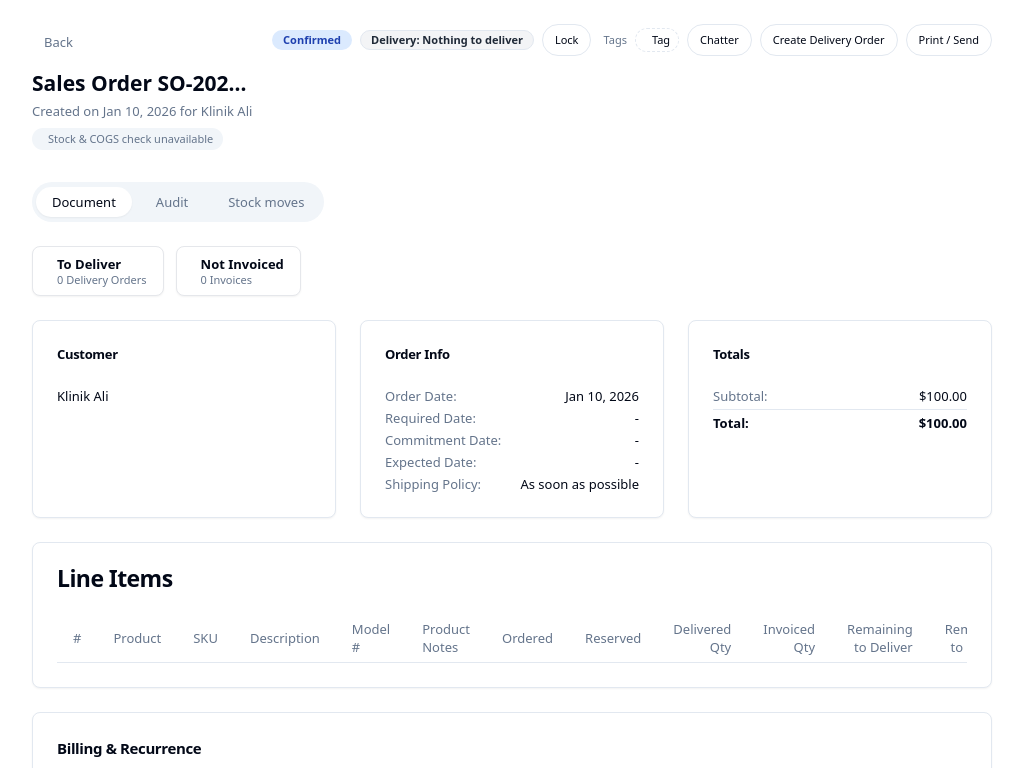
it: SalesOrderDetailPage — Audit tab (#905 / PCU1) › renders the Audit tab and loads the read-only audit feed for the order
This screenshot has width=1024, height=768.
expect the heading "Sales Order SO-2026-0005" is shown: met, box top-left (32, 68), bottom-right (256, 98)
Press the mouse on the tab "Audit": {"x": 168, "y": 202} top-left (132, 187), bottom-right (204, 217)
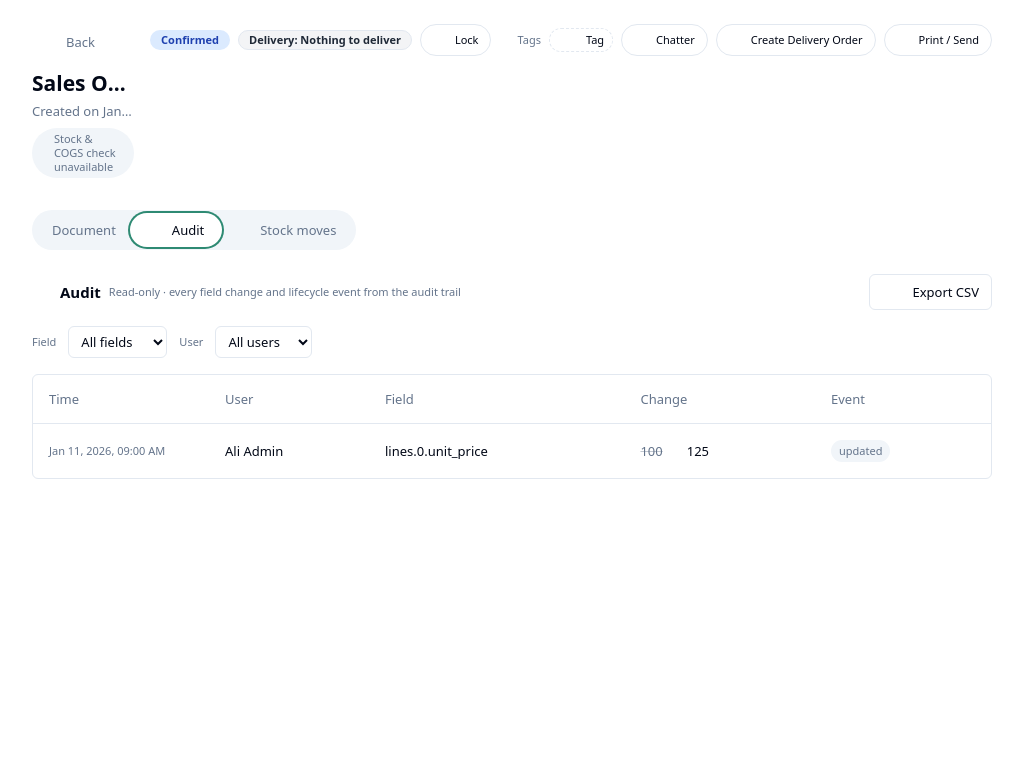
expect the text "100" is shown: met, box top-left (640, 442), bottom-right (663, 460)
expect the element with test id "audit-tab" is shown: met, box top-left (32, 274), bottom-right (992, 478)
expect the text "125" is shown: met, box top-left (687, 442), bottom-right (709, 460)
